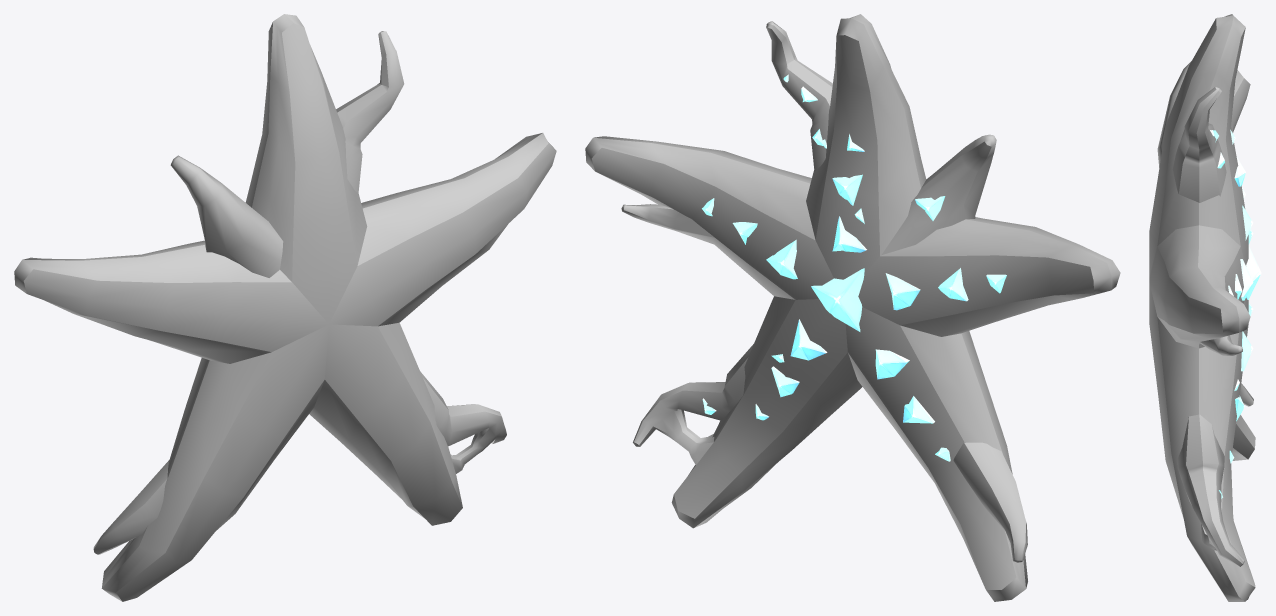
3 renders of one model, left to right at view 1: azimuth 30°, elevation 25°; view 2: azimuth 150°, elevation 25°; view 3: azimuth 270°, elevation 25°, orthographic. The views are drawn at different scales.
Visible parts, largest first — view 1: sfish; view 2: sfish; view 3: sfish.
Boxes of the visible parts, x1=… form: sfish: x1=14, y1=14, x2=556, y2=601; sfish: x1=585, y1=14, x2=1120, y2=601; sfish: x1=1149, y1=14, x2=1261, y2=601.
Size of the model in its own units: 540 by 531 by 105.
